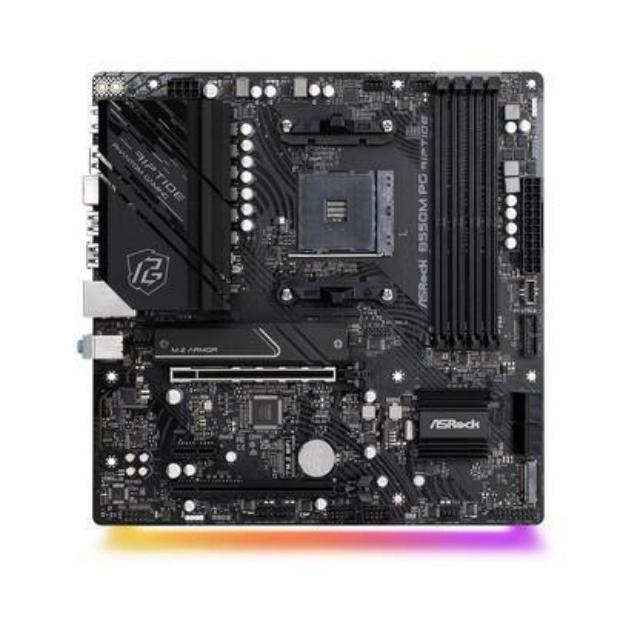Mainboard: (79, 59, 556, 541)
